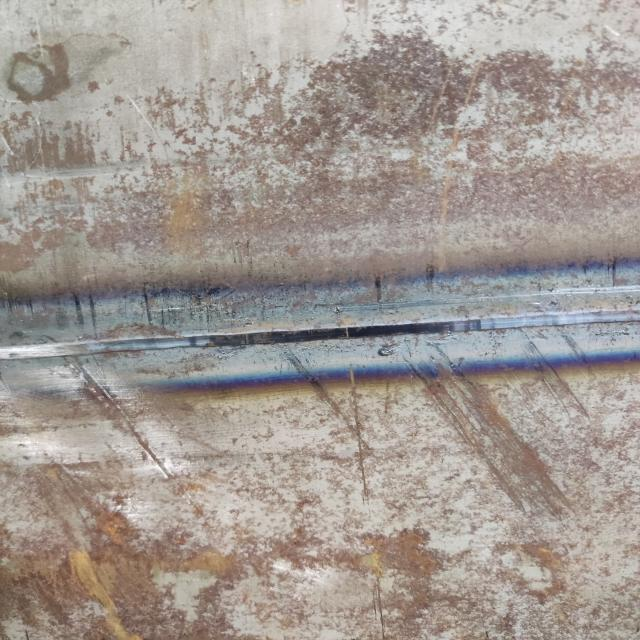seam: (0, 238, 640, 423)
